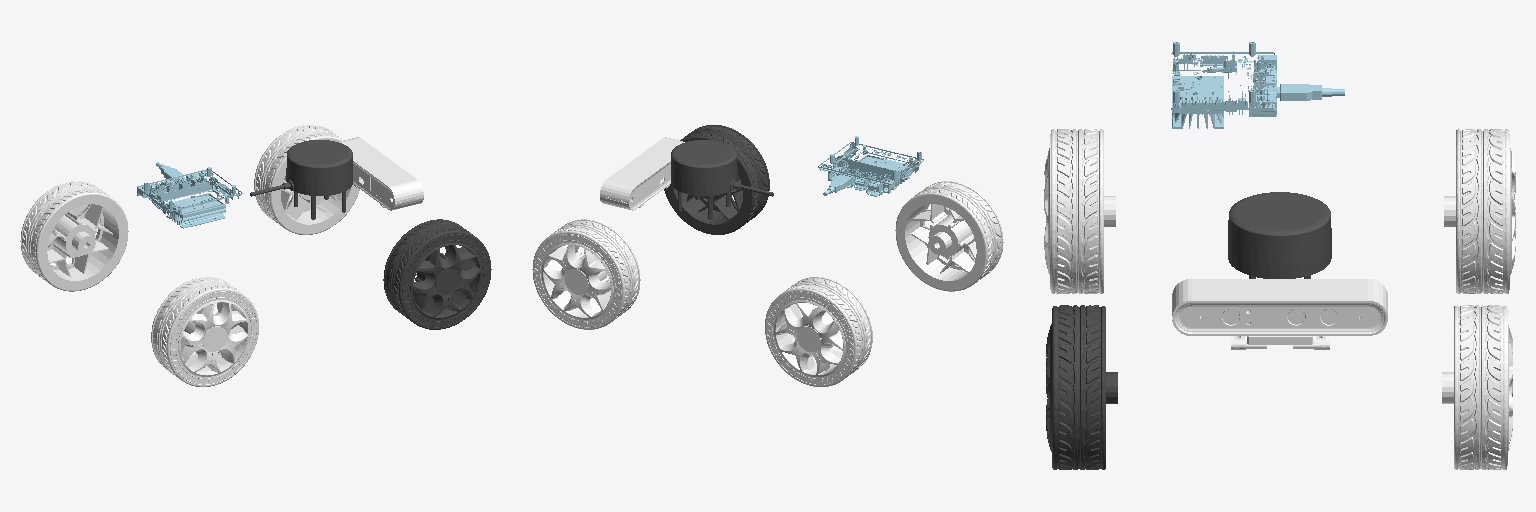
URDF robot description (senior_akm_robot):
<?xml version="1.0" encoding="utf-8"?>
<!-- This URDF was automatically created by SolidWorks to URDF Exporter! Originally created by [author] ([email redacted]) 
     Commit Version: 1.6.0-4-g7f85cfe  Build Version: 1.6.7995.38578
     For more information, please see http://wiki.ros.org/sw_urdf_exporter -->
<robot
  name="senior_akm_robot">
  <link
    name="base_link">
    <inertial>
      <origin
        xyz="-0.0559438609142813 0.00330415969343129 0.0632418734279548"
        rpy="0 0 0" />
      <mass
        value="2.0181307631489" />
      <inertia
        ixx="0.00496775560441293"
        ixy="-2.50338594522071E-06"
        ixz="-5.77894689328328E-06"
        iyy="0.00738528213809822"
        iyz="2.98387989498573E-07"
        izz="0.0118788713157811" />
    </inertial>
    <visual>
      <origin
        xyz="0 0 0"
        rpy="0 0 0" />
      <geometry>
        <mesh
          filename="package://wheeltec_robot_urdf/meshes/senior_akm_robot_meshes/base_link.STL" />
      </geometry>
      <material
        name="">
        <color
          rgba="0.741176470588235 0.901960784313726 0.956862745098039 1" />
      </material>
    </visual>
    <collision>
      <origin
        xyz="0 0 0"
        rpy="0 0 0" />
      <geometry>
        <mesh
          filename="package://wheeltec_robot_urdf/meshes/senior_akm_robot_meshes/base_link.STL" />
      </geometry>
    </collision>
  </link>
  <link
    name="lf_wheel_link">
    <inertial>
      <origin
        xyz="-4.54607698152643E-07 0.00161800736444831 1.60077912735659E-05"
        rpy="0 0 0" />
      <mass
        value="0.282382357492354" />
      <inertia
        ixx="0.000386424332780066"
        ixy="-5.52689264664868E-08"
        ixz="-3.90350993787636E-09"
        iyy="0.000685587970851221"
        iyz="2.23837352292227E-08"
        izz="0.00038646534831492" />
    </inertial>
    <visual>
      <origin
        xyz="0 0 0"
        rpy="0 0 0" />
      <geometry>
        <mesh
          filename="package://wheeltec_robot_urdf/meshes/senior_akm_robot_meshes/lf_wheel_link.STL" />
      </geometry>
      <material
        name="">
        <color
          rgba="1 1 1 1" />
      </material>
    </visual>
    <collision>
      <origin
        xyz="0 0 0"
        rpy="0 0 0" />
      <geometry>
        <mesh
          filename="package://wheeltec_robot_urdf/meshes/senior_akm_robot_meshes/lf_wheel_link.STL" />
      </geometry>
    </collision>
  </link>
  <joint
    name="lf_wheel_joint"
    type="continuous">
    <origin
      xyz="0.161163518918357 0.1542832024083 0.0241"
      rpy="0 0 0" />
    <parent
      link="base_link" />
    <child
      link="lf_wheel_link" />
    <axis
      xyz="-0.000184355204823019 0.999999983006579 0" />
  </joint>
  <link
    name="lb_wheel_link">
    <inertial>
      <origin
        xyz="-9.77664030010761E-08 0.00161800832068462 -1.60090049464712E-05"
        rpy="0 0 0" />
      <mass
        value="0.28238235510151" />
      <inertia
        ixx="0.000386424313854914"
        ixy="1.16194804289711E-10"
        ixz="-3.84765875735604E-09"
        iyy="0.000685587976199213"
        iyz="-2.23847888818388E-08"
        izz="0.000386465352037647" />
    </inertial>
    <visual>
      <origin
        xyz="0 0 0"
        rpy="0 0 0" />
      <geometry>
        <mesh
          filename="package://wheeltec_robot_urdf/meshes/senior_akm_robot_meshes/lb_wheel_link.STL" />
      </geometry>
      <material
        name="">
        <color
          rgba="1 1 1 1" />
      </material>
    </visual>
    <collision>
      <origin
        xyz="0 0 0"
        rpy="0 0 0" />
      <geometry>
        <mesh
          filename="package://wheeltec_robot_urdf/meshes/senior_akm_robot_meshes/lb_wheel_link.STL" />
      </geometry>
    </collision>
  </link>
  <joint
    name="lb_wheel_joint"
    type="continuous">
    <origin
      xyz="-0.157526481081643 0.155883202408302 0.024"
      rpy="0 0 0" />
    <parent
      link="base_link" />
    <child
      link="lb_wheel_link" />
    <axis
      xyz="0 1 0" />
  </joint>
  <link
    name="rb_wheel_link">
    <inertial>
      <origin
        xyz="6.80710226524939E-06 -0.00161799270928523 -1.47295337563288E-05"
        rpy="0 0 0" />
      <mass
        value="0.282382027797711" />
      <inertia
        ixx="0.000386426919158995"
        ixy="-7.98393791848843E-09"
        ixz="-1.25437358997355E-08"
        iyy="0.000685587931504061"
        iyz="2.05682797107053E-08"
        izz="0.000386462676564921" />
    </inertial>
    <visual>
      <origin
        xyz="0 0 0"
        rpy="0 0 0" />
      <geometry>
        <mesh
          filename="package://wheeltec_robot_urdf/meshes/senior_akm_robot_meshes/rb_wheel_link.STL" />
      </geometry>
      <material
        name="">
        <color
          rgba="1 1 1 1" />
      </material>
    </visual>
    <collision>
      <origin
        xyz="0 0 0"
        rpy="0 0 0" />
      <geometry>
        <mesh
          filename="package://wheeltec_robot_urdf/meshes/senior_akm_robot_meshes/rb_wheel_link.STL" />
      </geometry>
    </collision>
  </link>
  <joint
    name="rb_wheel_joint"
    type="continuous">
    <origin
      xyz="-0.157526481081644 -0.154348797591698 0.024"
      rpy="0 0 0" />
    <parent
      link="base_link" />
    <child
      link="rb_wheel_link" />
    <axis
      xyz="0 -1 0" />
  </joint>
  <link
    name="rf_wheel_link">
    <inertial>
      <origin
        xyz="-9.7767222234646E-08 -0.00161800832093656 1.60090049463671E-05"
        rpy="0 0 0" />
      <mass
        value="0.28238235510151" />
      <inertia
        ixx="0.000386424313854915"
        ixy="-1.1619480218228E-10"
        ixz="3.84765875779835E-09"
        iyy="0.000685587976199214"
        iyz="-2.23847888821488E-08"
        izz="0.000386465352037647" />
    </inertial>
    <visual>
      <origin
        xyz="0 0 0"
        rpy="0 0 0" />
      <geometry>
        <mesh
          filename="package://wheeltec_robot_urdf/meshes/senior_akm_robot_meshes/rf_wheel_link.STL" />
      </geometry>
      <material
        name="">
        <color
          rgba="0.349019607843137 0.349019607843137 0.349019607843137 1" />
      </material>
    </visual>
    <collision>
      <origin
        xyz="0 0 0"
        rpy="0 0 0" />
      <geometry>
        <mesh
          filename="package://wheeltec_robot_urdf/meshes/senior_akm_robot_meshes/rf_wheel_link.STL" />
      </geometry>
    </collision>
  </link>
  <joint
    name="rf_wheel_joint"
    type="continuous">
    <origin
      xyz="0.161173518918356 -0.1529487975917 0.0241"
      rpy="0 0 0" />
    <parent
      link="base_link" />
    <child
      link="rf_wheel_link" />
    <axis
      xyz="0 -1 0" />
  </joint>
  <link
    name="camera_link">
    <inertial>
      <origin
        xyz="-3.7325679416722E-07 -3.5360806139174E-07 1.07624233500886E-07"
        rpy="0 0 0" />
      <mass
        value="0.0559842512080098" />
      <inertia
        ixx="0.000130810959339214"
        ixy="1.2025512820631E-07"
        ixz="1.62335437080103E-06"
        iyy="1.91148634967897E-05"
        iyz="-2.80016755799718E-08"
        izz="0.000131387469523028" />
    </inertial>
    <visual>
      <origin
        xyz="0 0 0"
        rpy="0 0 0" />
      <geometry>
        <mesh
          filename="package://wheeltec_robot_urdf/meshes/senior_akm_robot_meshes/camera_link.STL" />
      </geometry>
      <material
        name="">
        <color
          rgba="1 1 1 1" />
      </material>
    </visual>
    <collision>
      <origin
        xyz="0 0 0"
        rpy="0 0 0" />
      <geometry>
        <mesh
          filename="package://wheeltec_robot_urdf/meshes/senior_akm_robot_meshes/camera_link.STL" />
      </geometry>
    </collision>
  </link>
  <joint
    name="camera_joint"
    type="fixed">
    <origin
      xyz="0.165778518918356 0.000945202408300414 0.089704"
      rpy="0 0 0" />
    <parent
      link="base_link" />
    <child
      link="camera_link" />
    <axis
      xyz="0 0 0" />
  </joint>
  <link
    name="laser_link">
    <inertial>
      <origin
        xyz="0.0023946067219177 -4.36235872412078E-06 0.0045403567617667"
        rpy="0 0 0" />
      <mass
        value="0.0391766918354982" />
      <inertia
        ixx="2.82296075716123E-05"
        ixy="-2.19900342512302E-09"
        ixz="1.07118438626956E-06"
        iyy="3.3798449785624E-05"
        iyz="6.83963624087229E-10"
        izz="4.50920076524856E-05" />
    </inertial>
    <visual>
      <origin
        xyz="0 0 0"
        rpy="0 0 0" />
      <geometry>
        <mesh
          filename="package://wheeltec_robot_urdf/meshes/senior_akm_robot_meshes/laser.STL" />
      </geometry>
      <material
        name="">
        <color
          rgba="0.376470588235294 0.376470588235294 0.376470588235294 1" />
      </material>
    </visual>
    <collision>
      <origin
        xyz="0 0 0"
        rpy="0 0 0" />
      <geometry>
        <mesh
          filename="package://wheeltec_robot_urdf/meshes/senior_akm_robot_meshes/laser.STL" />
      </geometry>
    </collision>
  </link>
  <joint
    name="laser_joint"
    type="fixed">
    <origin
      xyz="0.0887405189187401 0.000667202411597726 0.111024183741431"
      rpy="0 0 3.14159265358979" />
    <parent
      link="base_link" />
    <child
      link="laser_link" />
    <axis
      xyz="0 0 0" />
  </joint>
  <link
    name="controller_link">
    <inertial>
      <origin
        xyz="-0.0345544164537016 0.0884587575062851 -0.00475090869119182"
        rpy="0 0 0" />
      <mass
        value="0.00500280353665619" />
      <inertia
        ixx="5.5683668655799E-07"
        ixy="-4.85797552736302E-14"
        ixz="-5.07877534231843E-15"
        iyy="9.83824150757692E-08"
        iyz="3.20815042741342E-14"
        izz="6.06554886179191E-07" />
    </inertial>
    <visual>
      <origin
        xyz="0 0 0"
        rpy="0 0 0" />
      <geometry>
        <mesh
          filename="package://wheeltec_robot_urdf/meshes/senior_akm_robot_meshes/controller_link.STL" />
      </geometry>
      <material
        name="">
        <color
          rgba="0.741176470588235 0.901960784313726 0.956862745098039 1" />
      </material>
    </visual>
    <collision>
      <origin
        xyz="0 0 0"
        rpy="0 0 0" />
      <geometry>
        <mesh
          filename="package://wheeltec_robot_urdf/meshes/senior_akm_robot_meshes/controller_link.STL" />
      </geometry>
    </collision>
  </link>
  <joint
    name="controller_joint"
    type="fixed">
    <origin
      xyz="-0.0721543141474791 -0.0796936307251098 0.155"
      rpy="0 0 0" />
    <parent
      link="base_link" />
    <child
      link="controller_link" />
    <axis
      xyz="0 0 0" />
  </joint>
</robot>

--- Facts derived from the render (not from the file) ---
3 views of the same robot in one strip: view 1: azimuth 30°, elevation 25°; view 2: azimuth 150°, elevation 25°; view 3: azimuth 270°, elevation 25° (orthographic).
Model senior_akm_robot with 8 links and 7 joints (4 continuous, 3 fixed), rooted at base_link, posed all joints at 0.
Links seen in each view (by area): view 1: rb_wheel_link, rf_wheel_link, lb_wheel_link, lf_wheel_link, laser_link, controller_link, camera_link; view 2: lb_wheel_link, lf_wheel_link, rb_wheel_link, rf_wheel_link, laser_link, controller_link, camera_link; view 3: camera_link, rf_wheel_link, lb_wheel_link, rb_wheel_link, lf_wheel_link, laser_link, controller_link.
Boxes of the visible links, bbox=[...] form: rb_wheel_link: bbox=[151, 277, 258, 386]; rf_wheel_link: bbox=[383, 219, 491, 329]; lb_wheel_link: bbox=[20, 181, 128, 291]; lf_wheel_link: bbox=[254, 125, 359, 234]; laser_link: bbox=[250, 140, 352, 219]; controller_link: bbox=[137, 162, 242, 228]; camera_link: bbox=[339, 137, 423, 210]; lb_wheel_link: bbox=[765, 277, 872, 386]; lf_wheel_link: bbox=[532, 219, 640, 329]; rb_wheel_link: bbox=[895, 181, 1003, 291]; rf_wheel_link: bbox=[664, 125, 769, 234]; laser_link: bbox=[671, 140, 773, 219]; controller_link: bbox=[818, 136, 923, 196]; camera_link: bbox=[600, 137, 684, 210]; camera_link: bbox=[1172, 279, 1387, 349]; rf_wheel_link: bbox=[1046, 305, 1117, 469]; lb_wheel_link: bbox=[1444, 129, 1515, 293]; rb_wheel_link: bbox=[1044, 129, 1115, 293]; lf_wheel_link: bbox=[1442, 305, 1512, 469]; laser_link: bbox=[1228, 192, 1331, 278]; controller_link: bbox=[1171, 42, 1344, 128].
Size in the robot's own frame: 0.4447 by 0.3598 by 0.204 metres.
7 mesh visuals loaded from 8 distinct referenced files (7 binary STL); not drawn: 1 (reference not matched to a file when rendering).